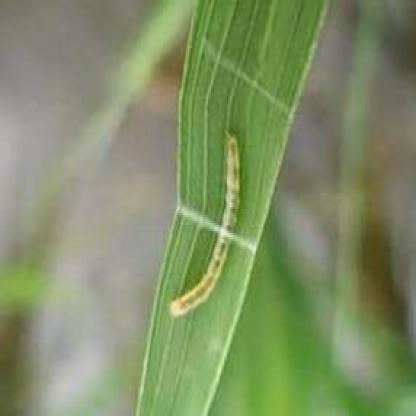leaf-folder: (161, 125, 264, 358)
